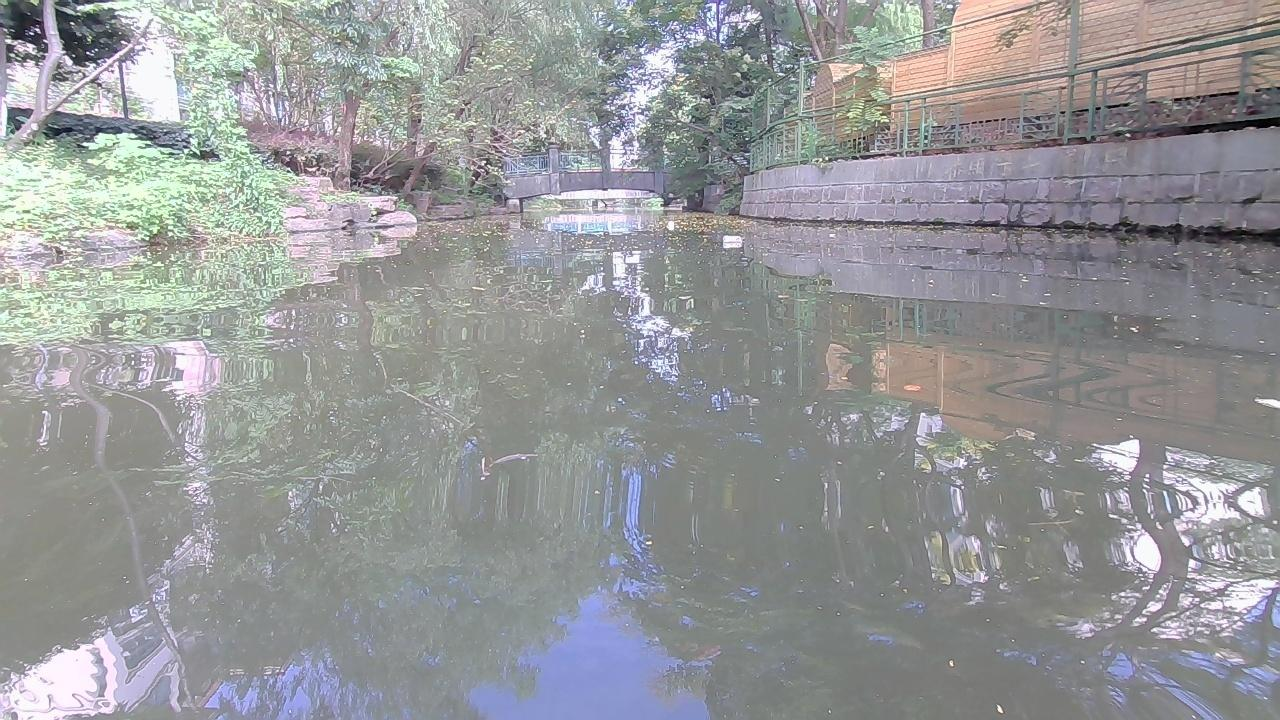bottle: (716, 235, 744, 246), (666, 220, 677, 230)
